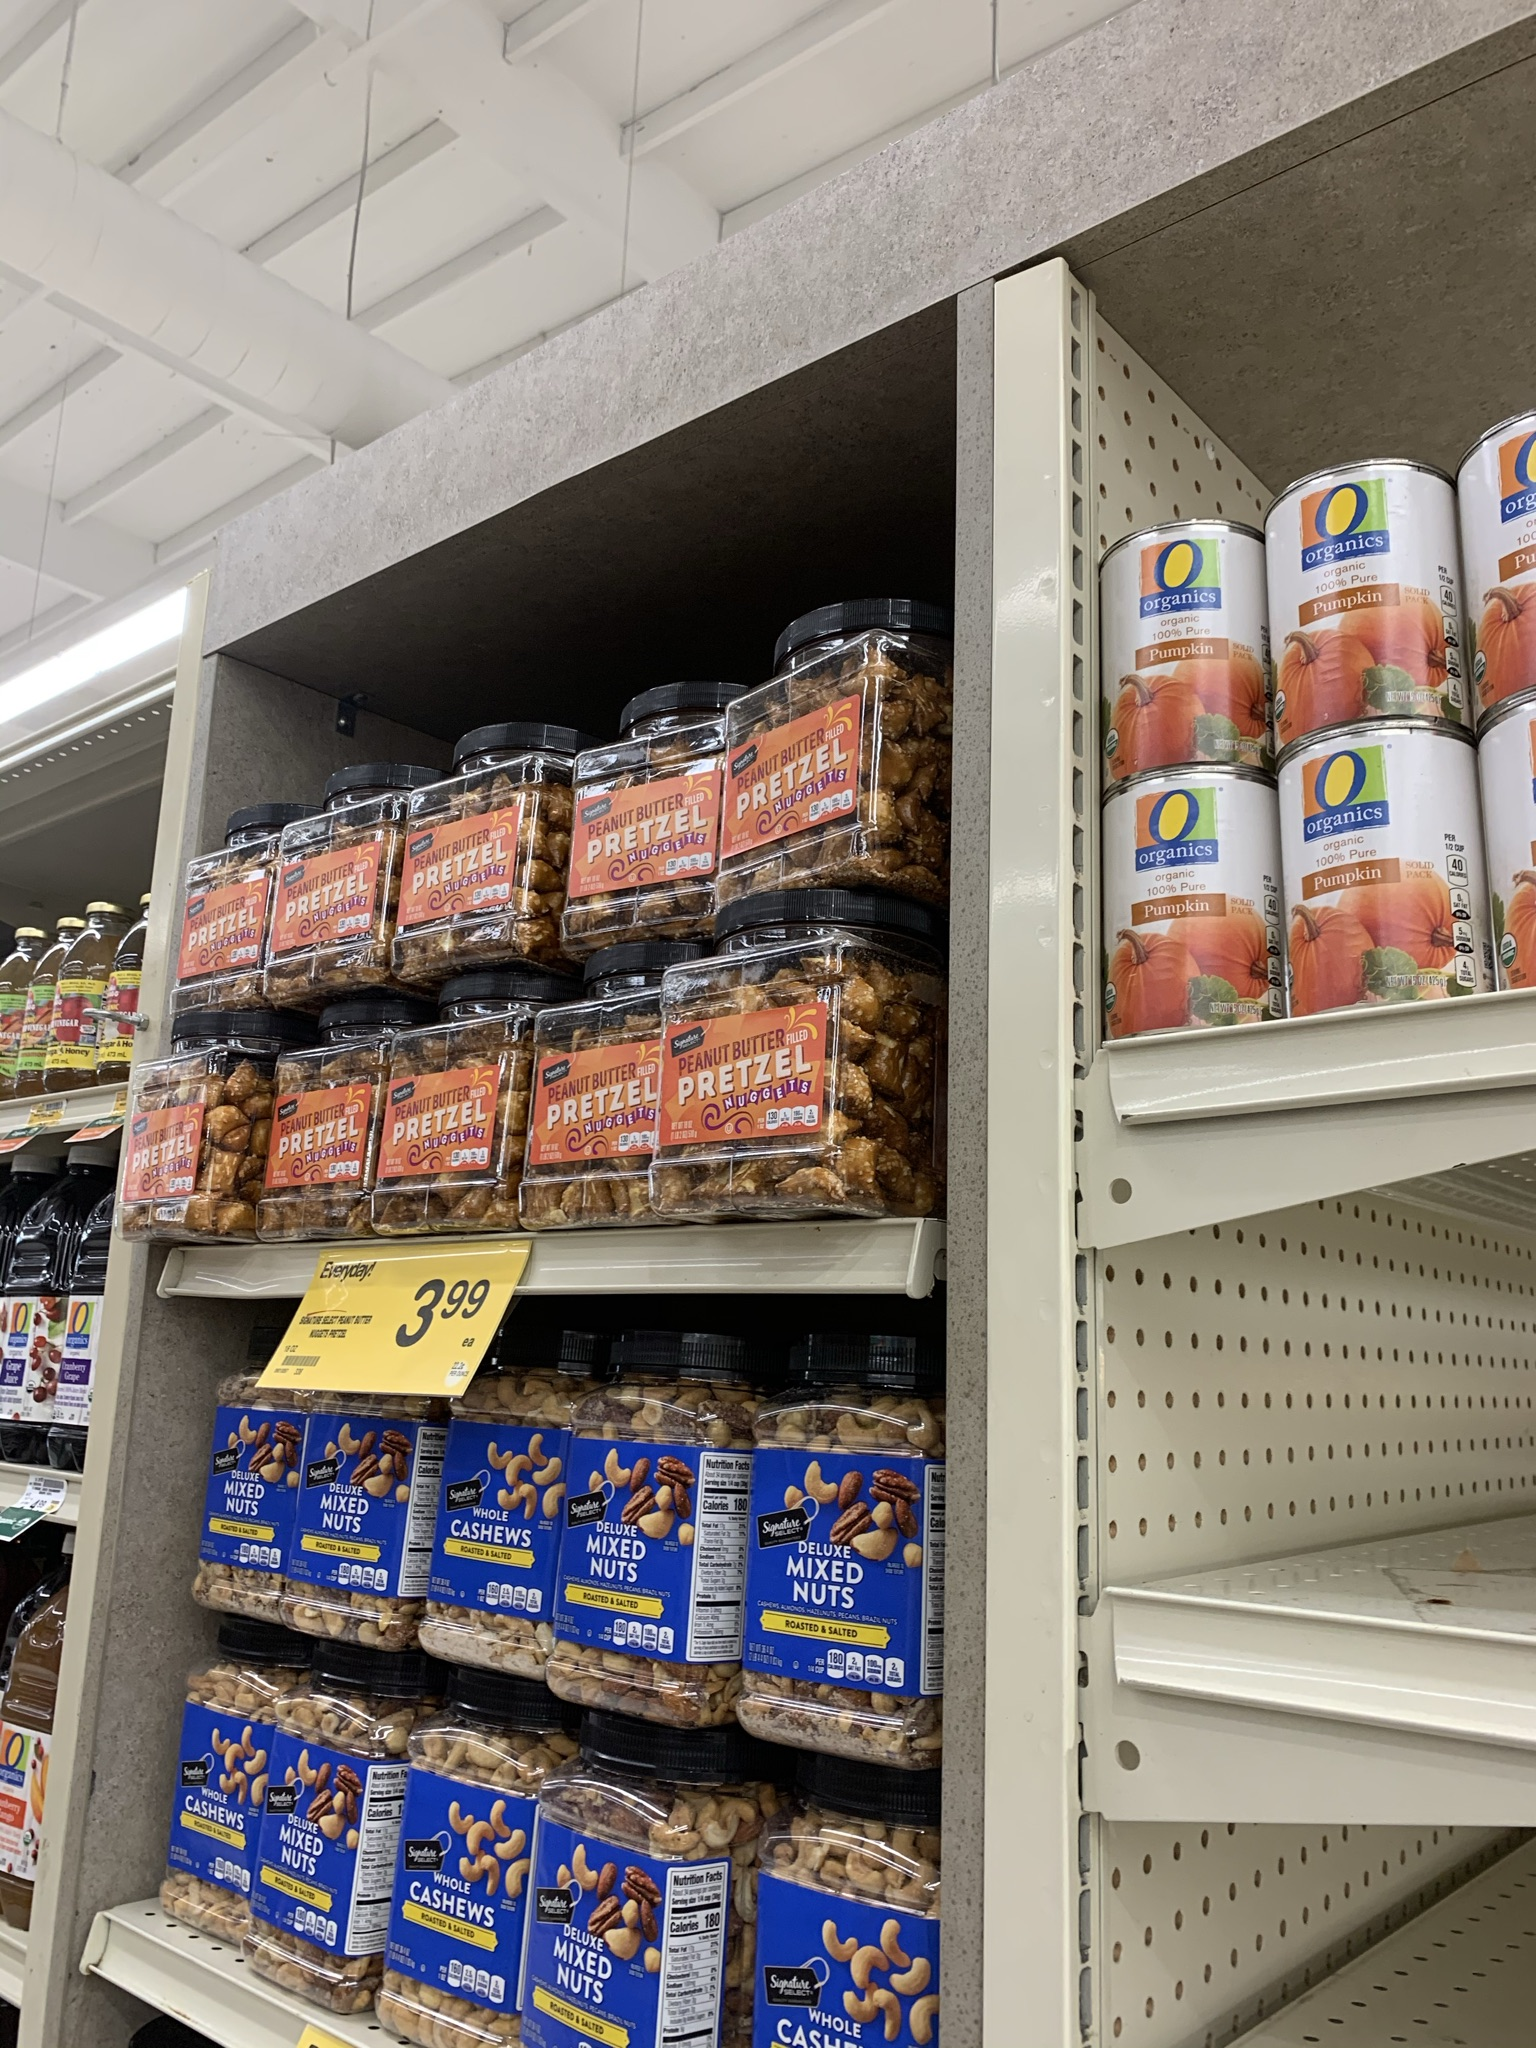can: (1267, 724, 1481, 1013), (1262, 455, 1460, 724), (1091, 768, 1279, 1039), (1104, 526, 1262, 771)
